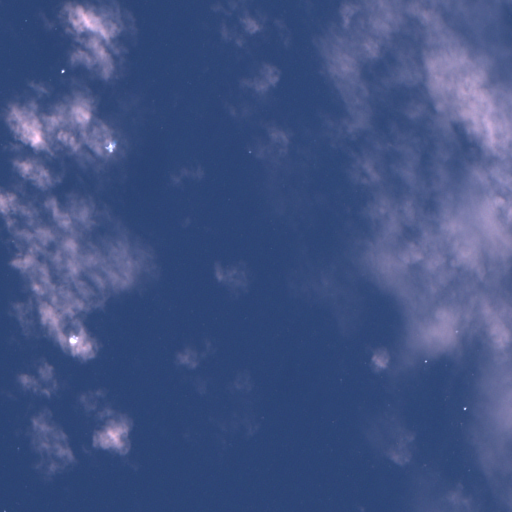Iceberg: (104, 142, 116, 152), (69, 335, 77, 344), (61, 69, 64, 73), (463, 407, 466, 410), (424, 360, 427, 362), (456, 330, 458, 332), (249, 151, 250, 152)
